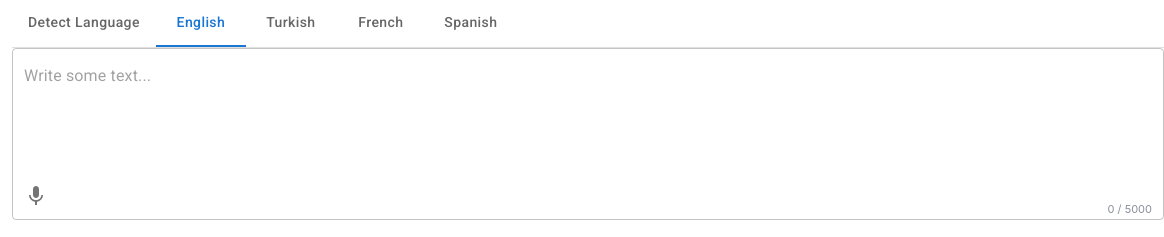
Test: TranslateInput › should update text value on input change
Type "Hello, World!" into the text box with placeholder "Write some text...".
click(588, 110); type("Hello, World!")  # box 24,64 -> 1152,156
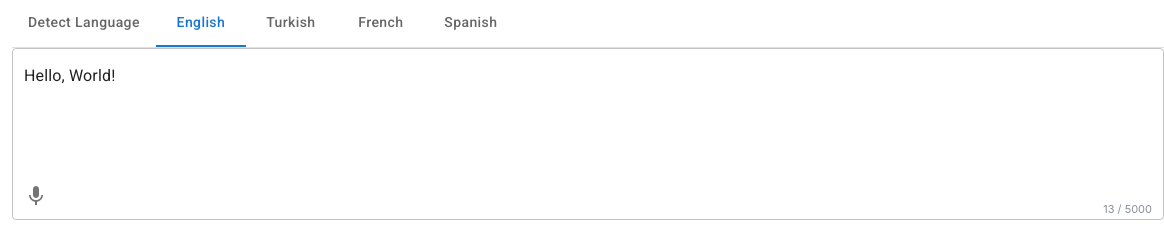
Now the text "13 / 5000" is shown, box 1103,202 -> 1152,216
